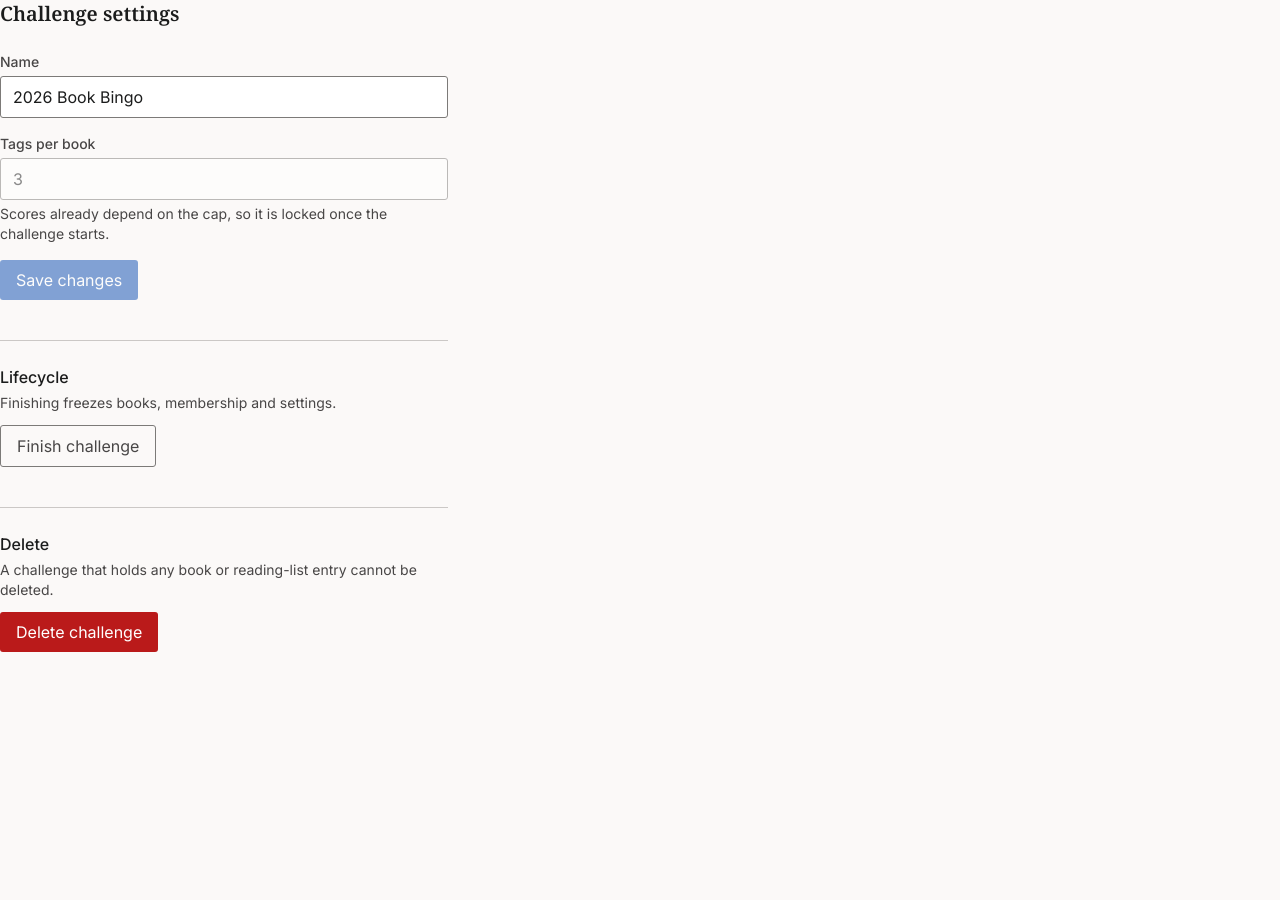
ChallengeSettingsPage › surfaces the refusal when a challenge still holds books
Click the button "Delete challenge": (79, 632) left=0, top=612, right=158, bottom=652
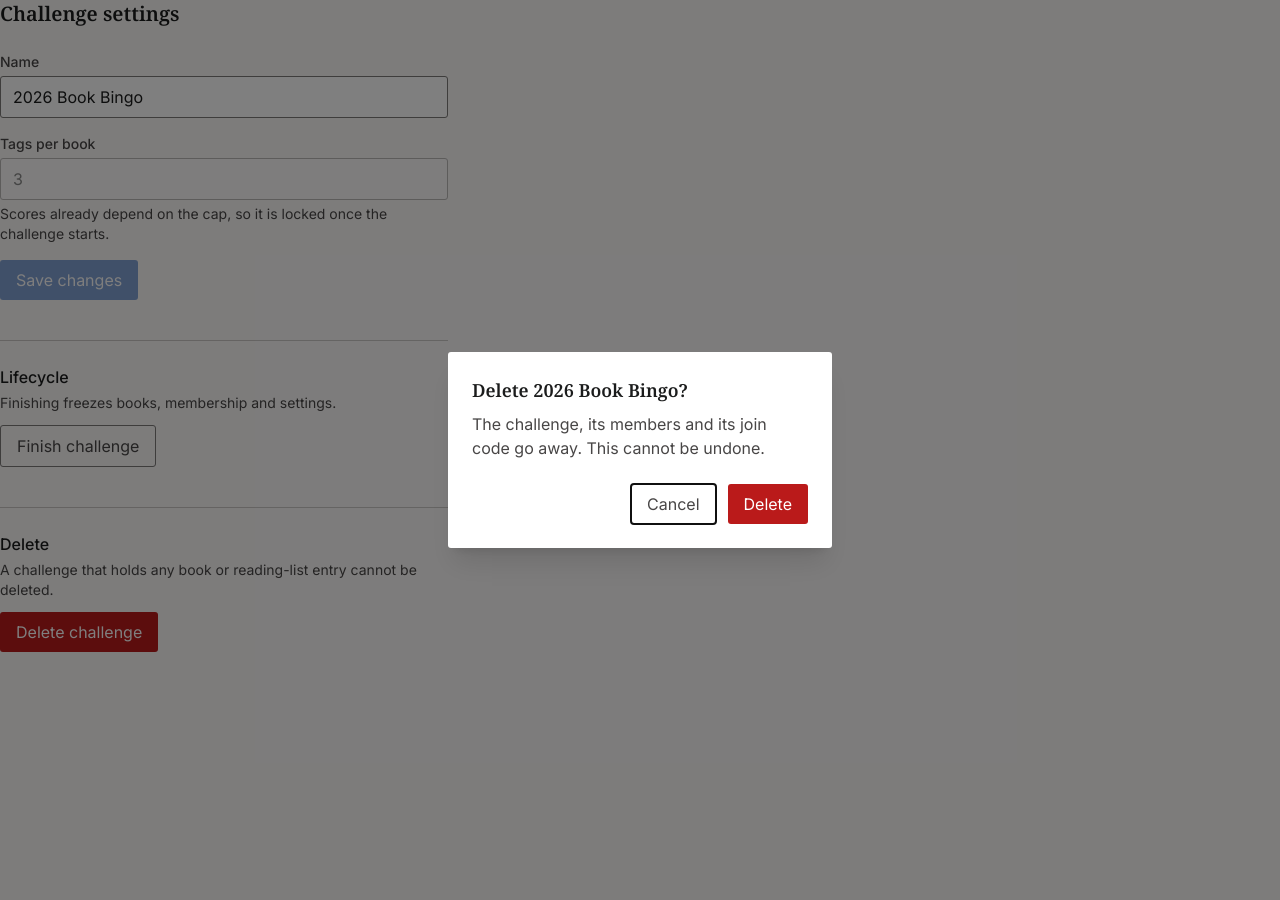
Click the button "Delete": (768, 504) left=728, top=484, right=808, bottom=524
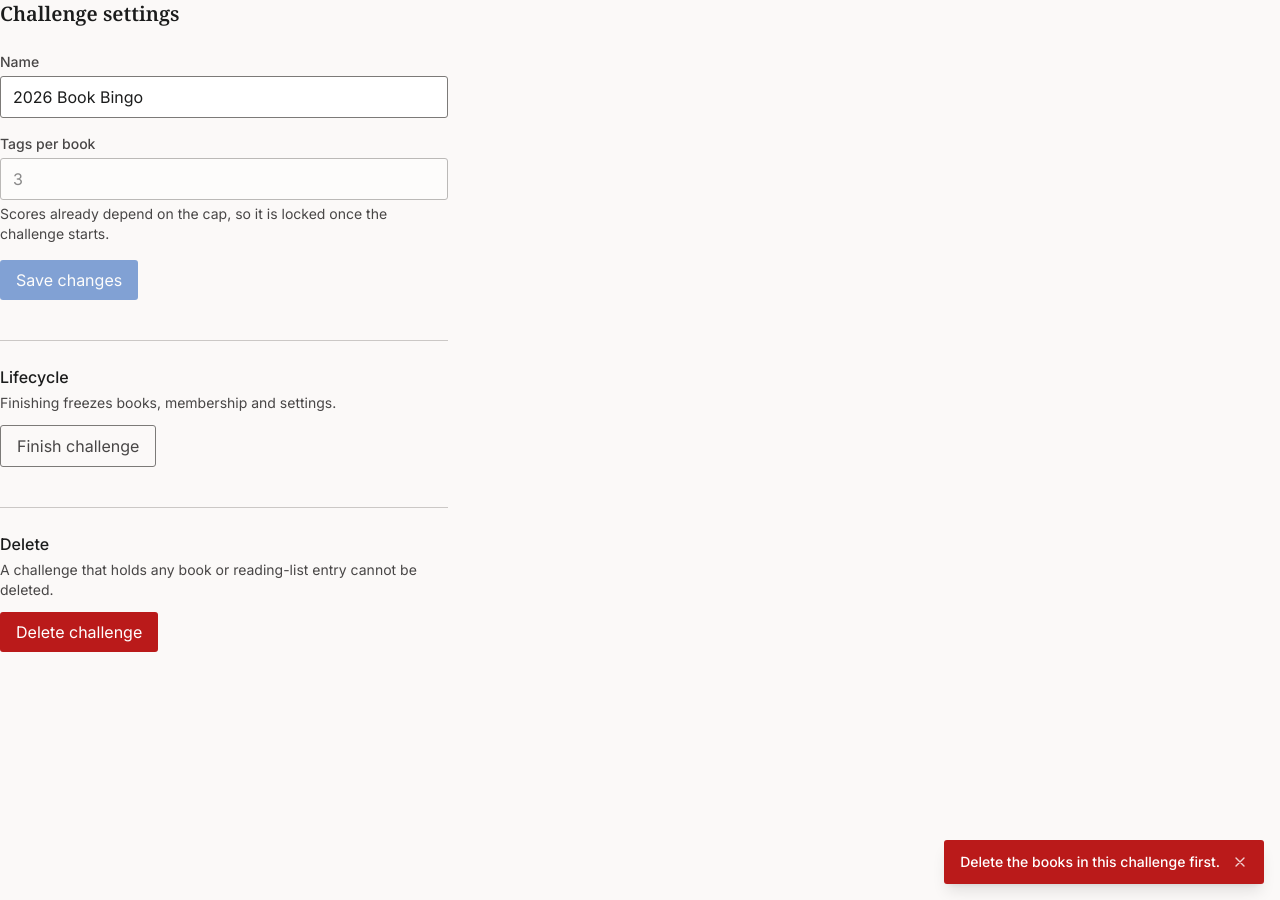
Now the text "Delete the books in this challenge first." is shown, box left=960, top=852, right=1220, bottom=872
